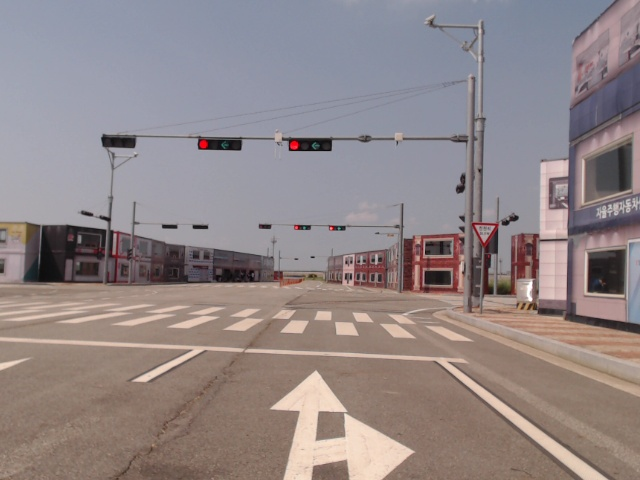left_green_4: (290, 139, 330, 152), (198, 140, 242, 150), (294, 224, 310, 230), (330, 226, 346, 231)
